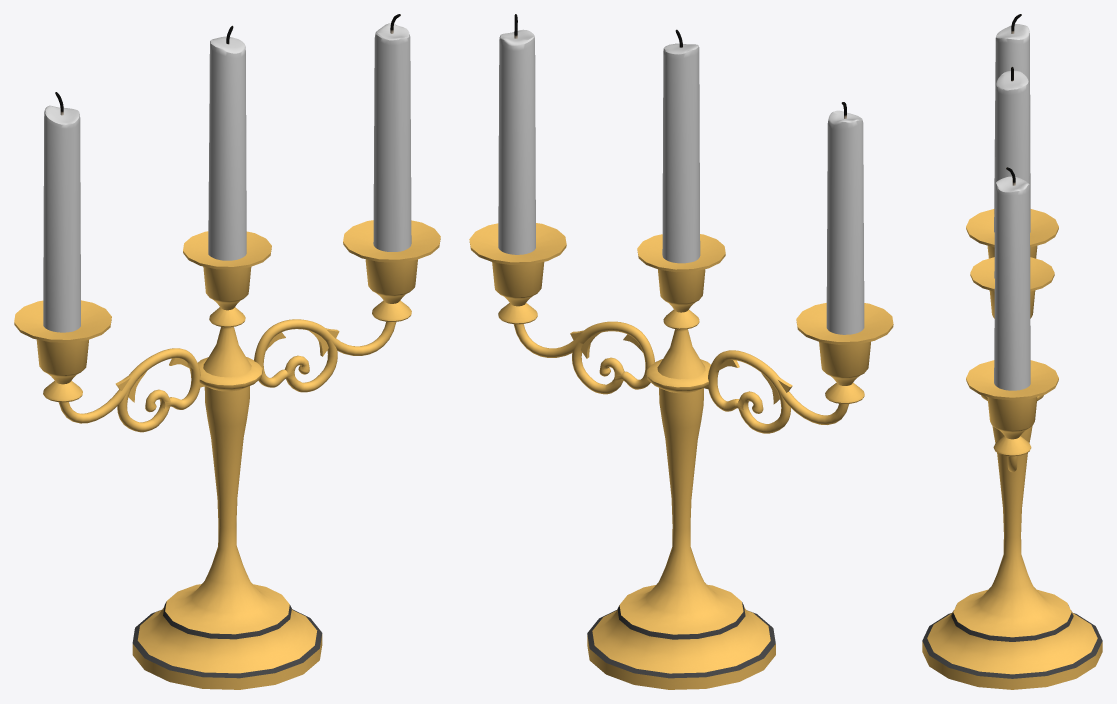
The model's file is candle_holder.glb.
3 views of the same model, side by side, from view 1: azimuth 30°, elevation 25°; view 2: azimuth 150°, elevation 25°; view 3: azimuth 270°, elevation 25° (orthographic). The views are drawn at different scales.
Visible parts, largest first — view 1: Plane; view 2: Plane; view 3: Plane.
Part boxes in pixels (x1,y1,x2,y2): Plane: (14, 14, 440, 689); Plane: (469, 14, 893, 689); Plane: (922, 14, 1102, 689).
Size of the model in its own units: 11.52 by 16.55 by 4.61.
Materials: 1 (1 with a texture image).
